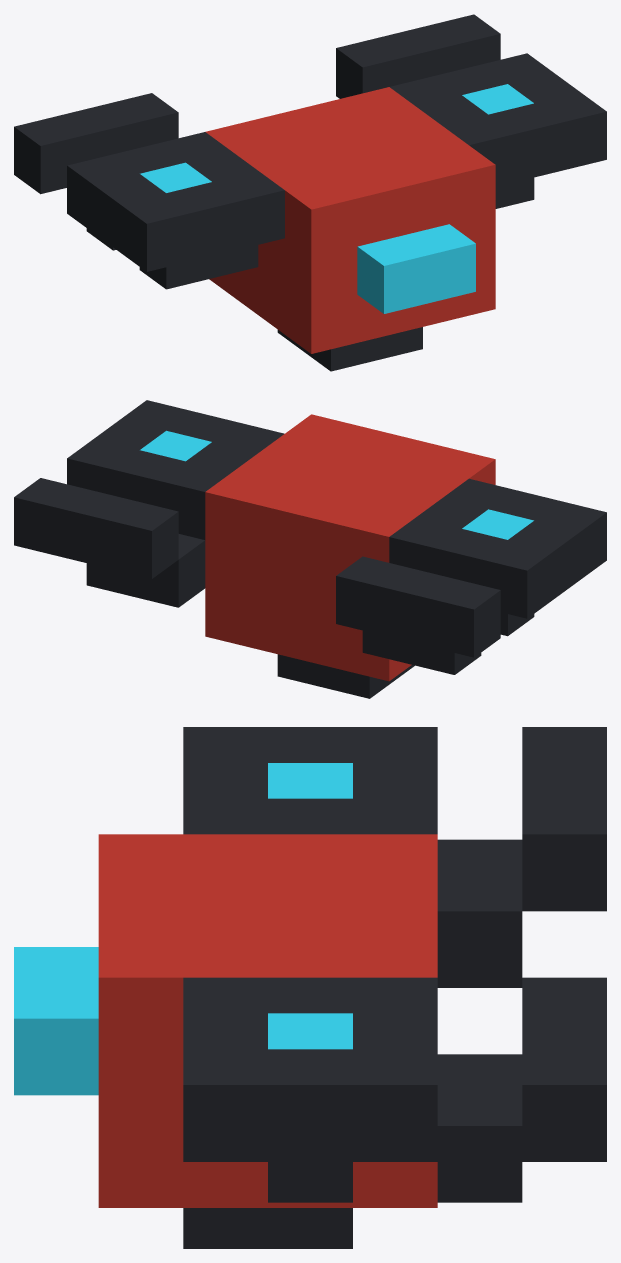
File: mech_small_drone_walk_a.glb
The picture shows the model from 3 angles, top to bottom: view 1: azimuth 30°, elevation 25°; view 2: azimuth 150°, elevation 25°; view 3: azimuth 270°, elevation 25°; orthographic projection. The views are drawn at different scales.
Parts seen in each view (by area): view 1: Rotor mesh, Body mesh, Arm mesh, Skid mesh; view 2: Rotor mesh, Body mesh, Arm mesh, Skid mesh; view 3: Rotor mesh, Body mesh, Arm mesh, Skid mesh.
Part boxes in pixels (x1,y1,x2,y2): Rotor mesh: (14,14,606,271); Body mesh: (205,87,495,353); Arm mesh: (86,177,534,289); Skid mesh: (277,327,422,371); Rotor mesh: (14,400,606,657); Body mesh: (205,414,495,681); Arm mesh: (86,534,534,674); Skid mesh: (277,654,414,698); Rotor mesh: (183,727,606,1161); Body mesh: (14,834,437,1207); Arm mesh: (268,839,522,1202); Skid mesh: (183,1208,352,1248).
Bounding box in the file's own units: 10 × 4 × 7.
1 material, 1 textured.
